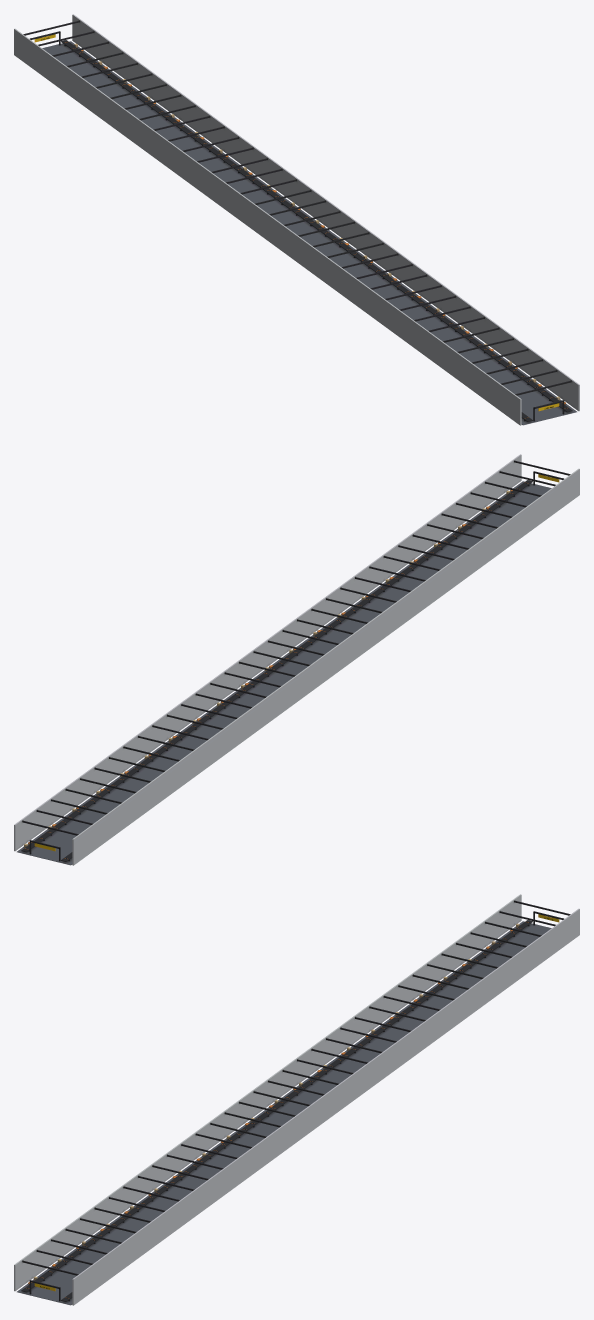
The model's file is casa_moneda_int.glb.
3 renders of one model, top to bottom at view 1: azimuth 30°, elevation 25°; view 2: azimuth 150°, elevation 25°; view 3: azimuth 330°, elevation 25°, orthographic.
Visible parts, largest first — view 1: casa_moneda_int; view 2: casa_moneda_int; view 3: casa_moneda_int.
Part boxes in pixels (x1,y1,x2,y2): casa_moneda_int: (14,14,579,425); casa_moneda_int: (14,454,579,865); casa_moneda_int: (14,894,579,1305).
Bounding box in the file's own units: 28.6 × 12.63 × 420.
Materials: 1 (1 with a texture image).
